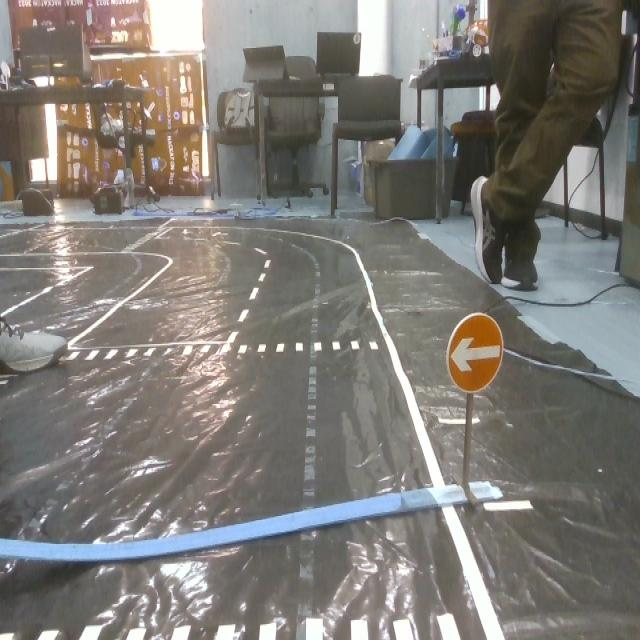forward: (441, 308, 512, 395)
